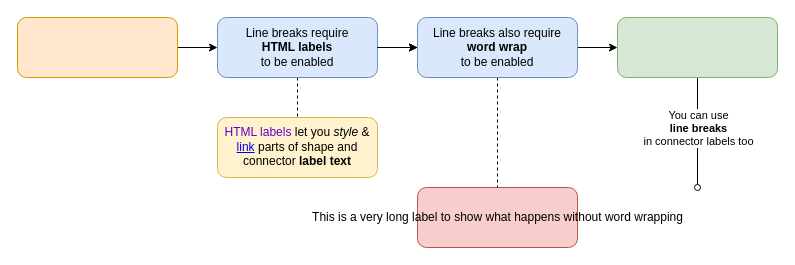
Image size: 795x265. Some labels were removed from this diagram. Each missing label, with the box of its shape:
Line wrap and HTML labels are enabled by default: (616, 16, 778, 78)
To add a line break in a label, press Shift+Enter: (16, 16, 178, 78)
